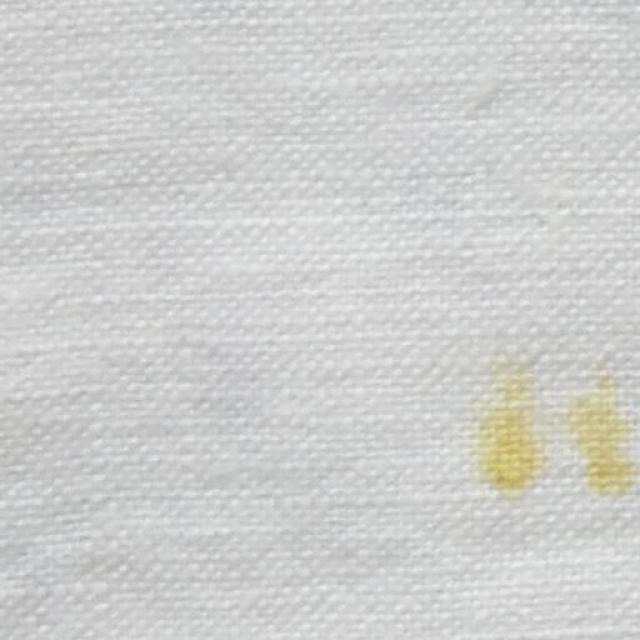Stain: (571, 391, 635, 490), (484, 378, 541, 482)
